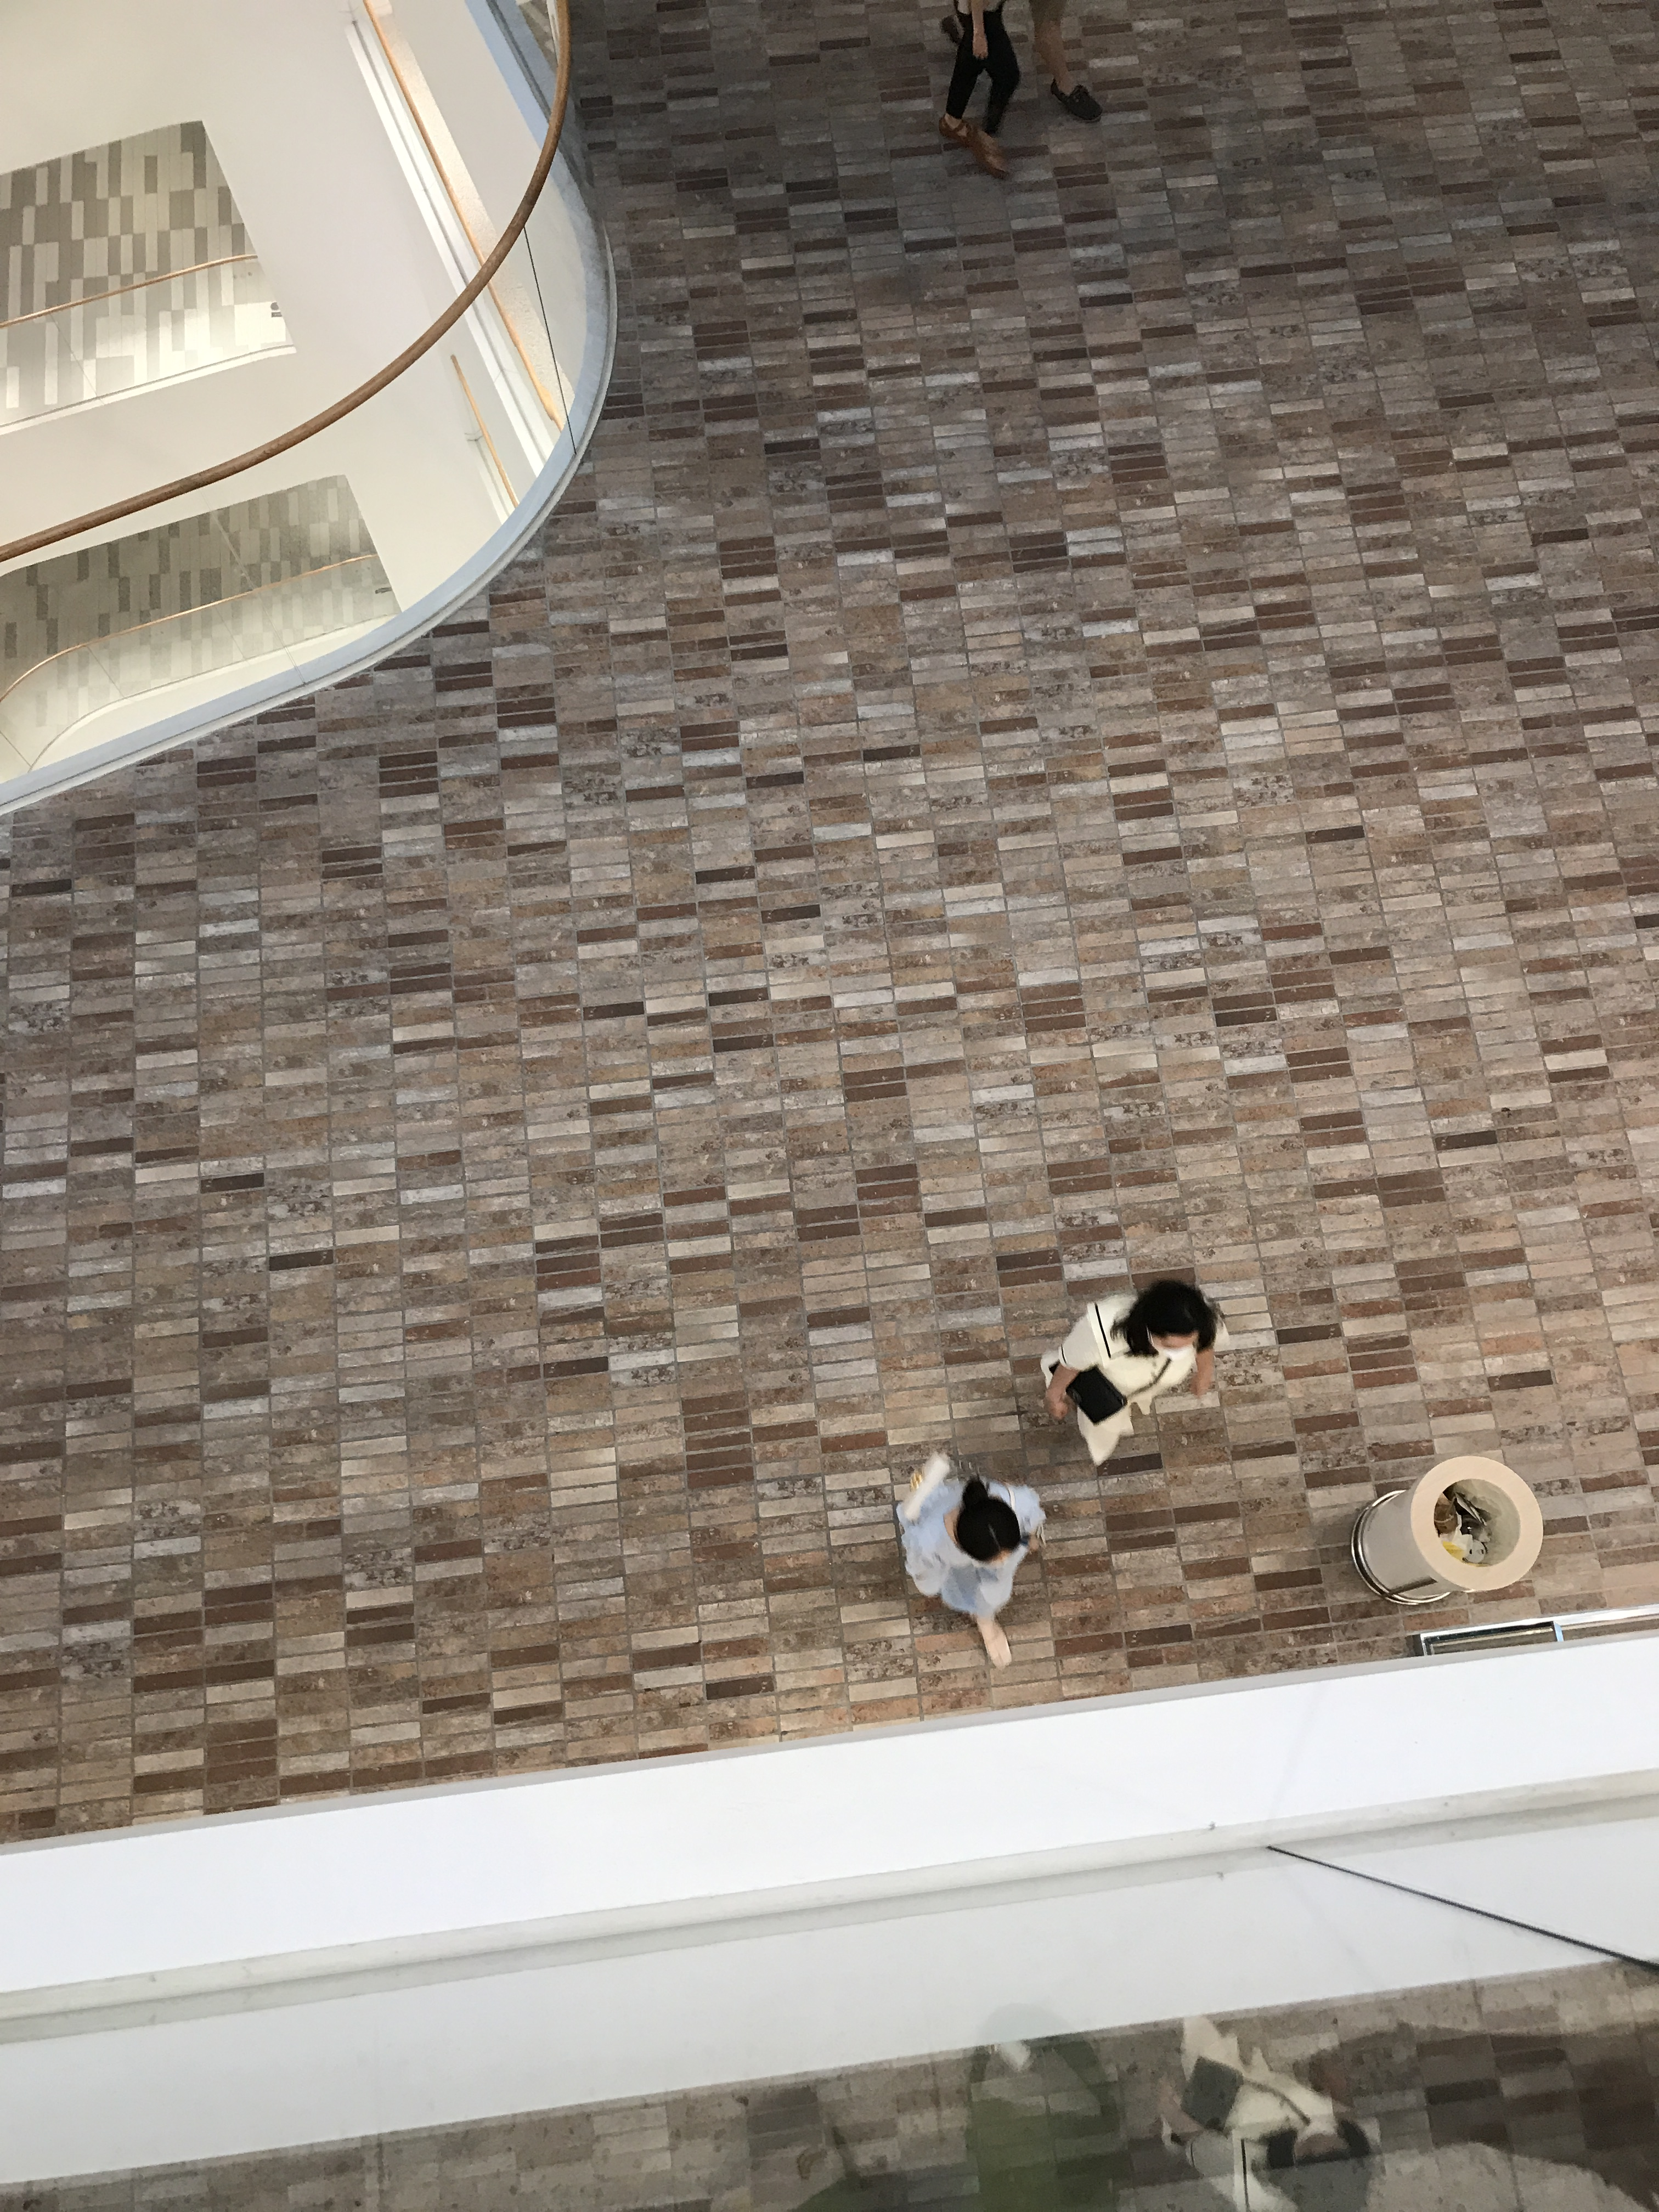person: (893, 1449, 1052, 1671), (1046, 1287, 1219, 1461)
